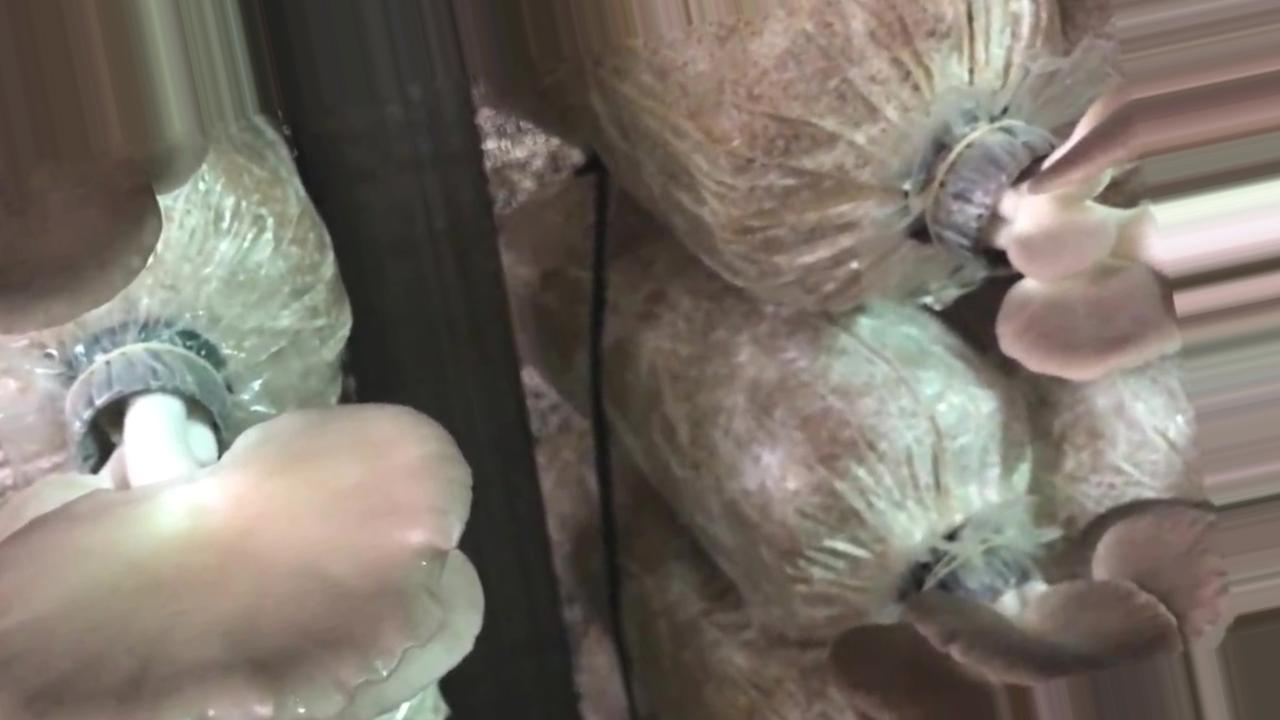nam: (1, 327, 478, 714), (825, 495, 1186, 717), (932, 95, 1185, 380), (7, 1, 209, 338)
